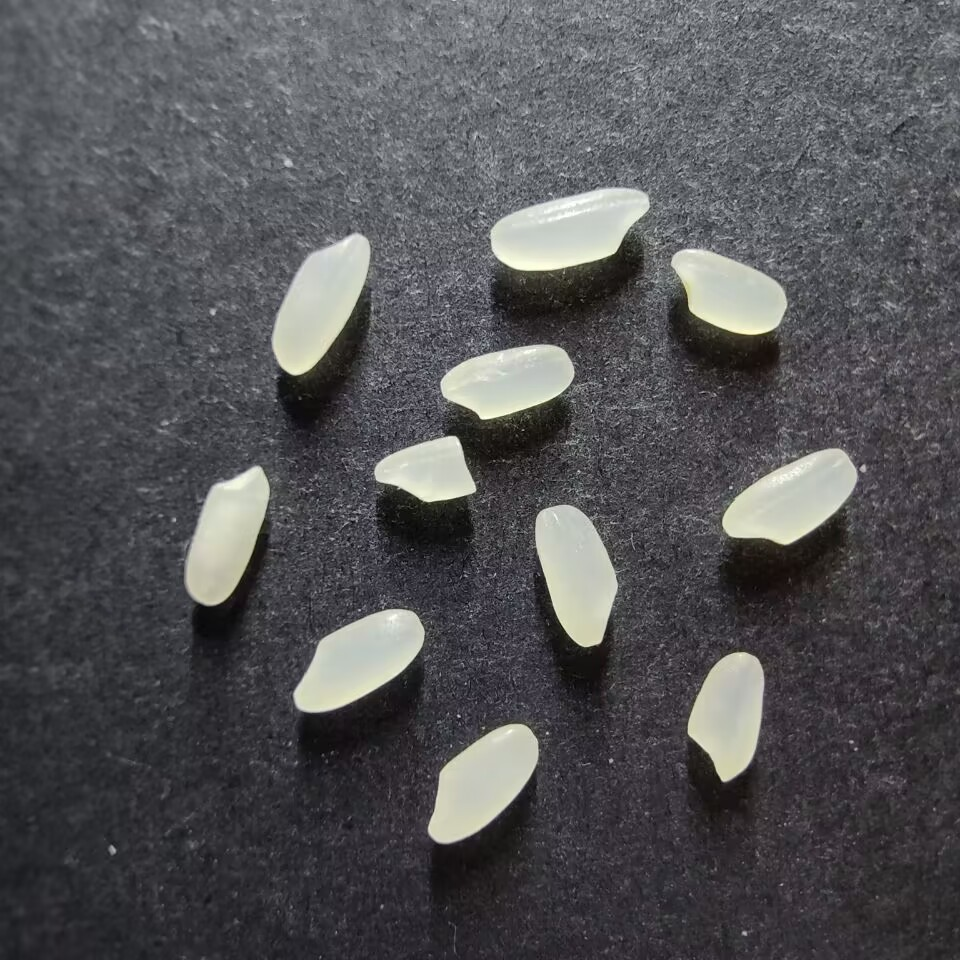broken: (373, 435, 476, 502)
rice: (272, 232, 371, 375), (292, 608, 424, 713), (489, 187, 649, 272), (427, 723, 539, 844), (721, 448, 858, 545), (534, 504, 618, 647), (184, 465, 269, 606), (686, 651, 765, 782), (439, 344, 575, 419), (670, 248, 787, 335)
